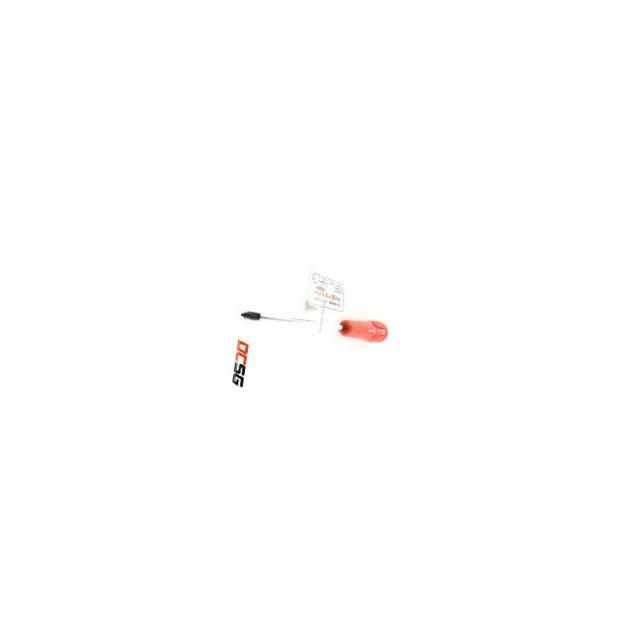screwdriver: (237, 300, 391, 345)
